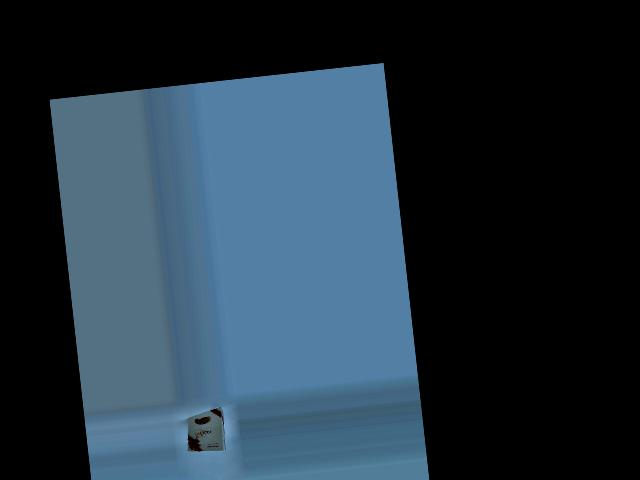chocolate: (182, 404, 235, 453)
